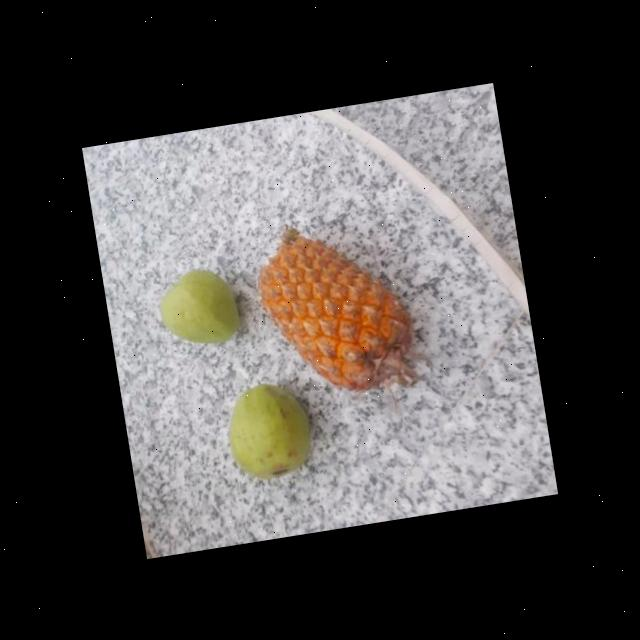guava: (222, 374, 314, 483), (155, 261, 244, 350)
pineapple: (248, 210, 422, 412)
